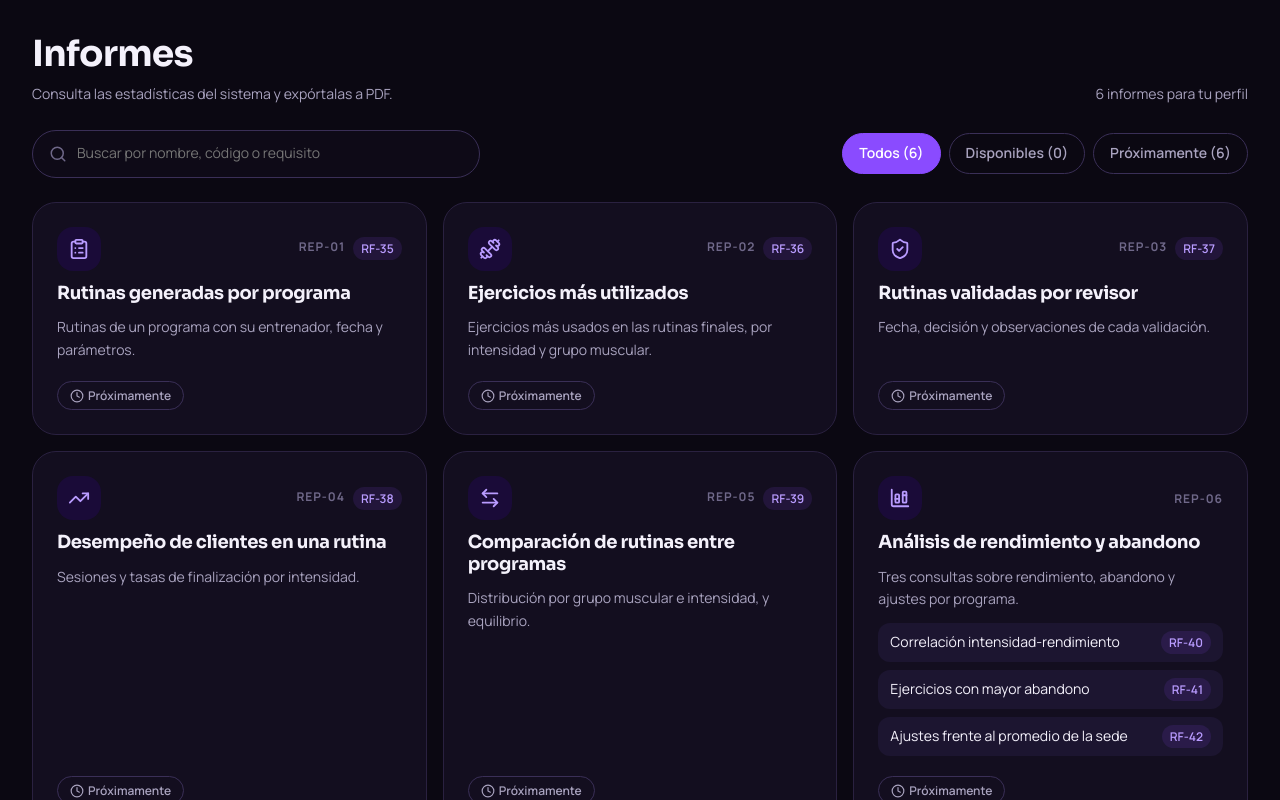
ReportsIndexPage › filters by status tab and explains when nothing matches
Click the button "Disponibles (0)": (1017, 154) [949,133,1085,174]
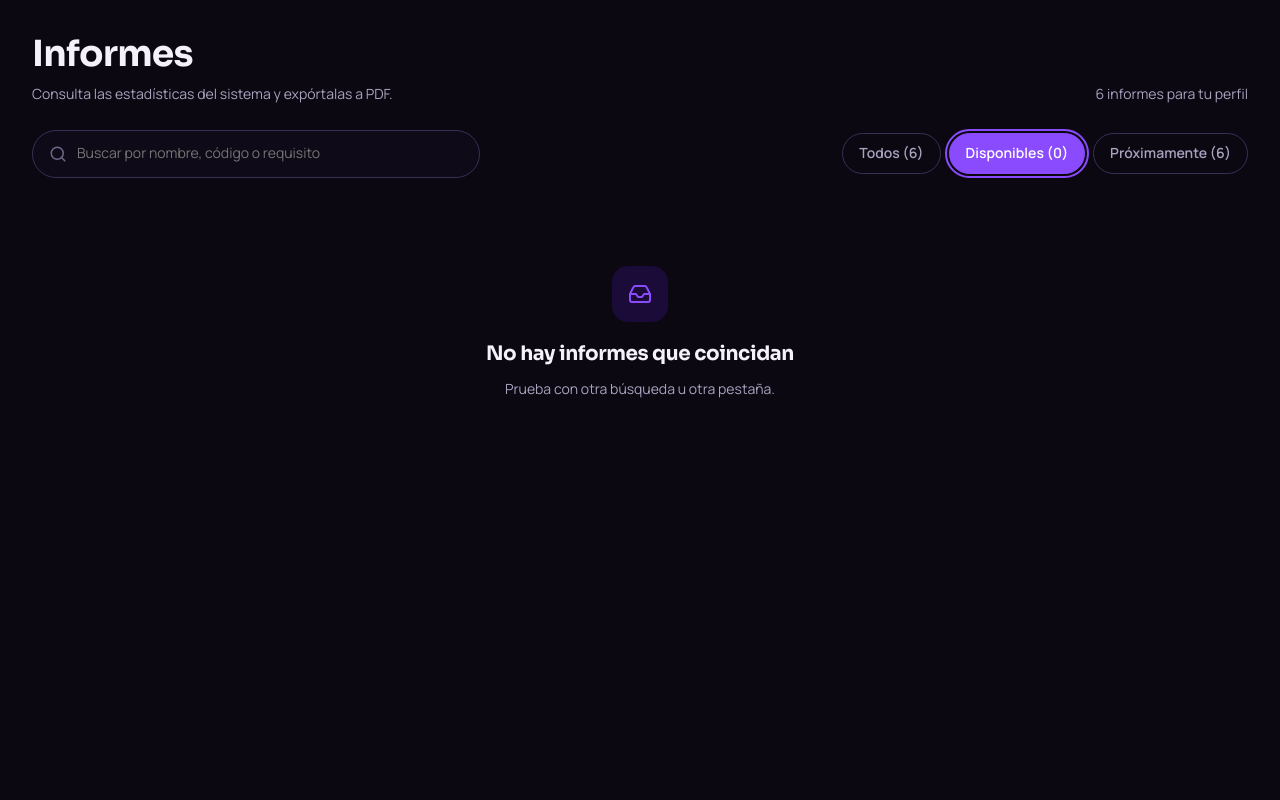
Expected: the heading "No hay informes que coincidan" is shown, [486,342,794,366]
